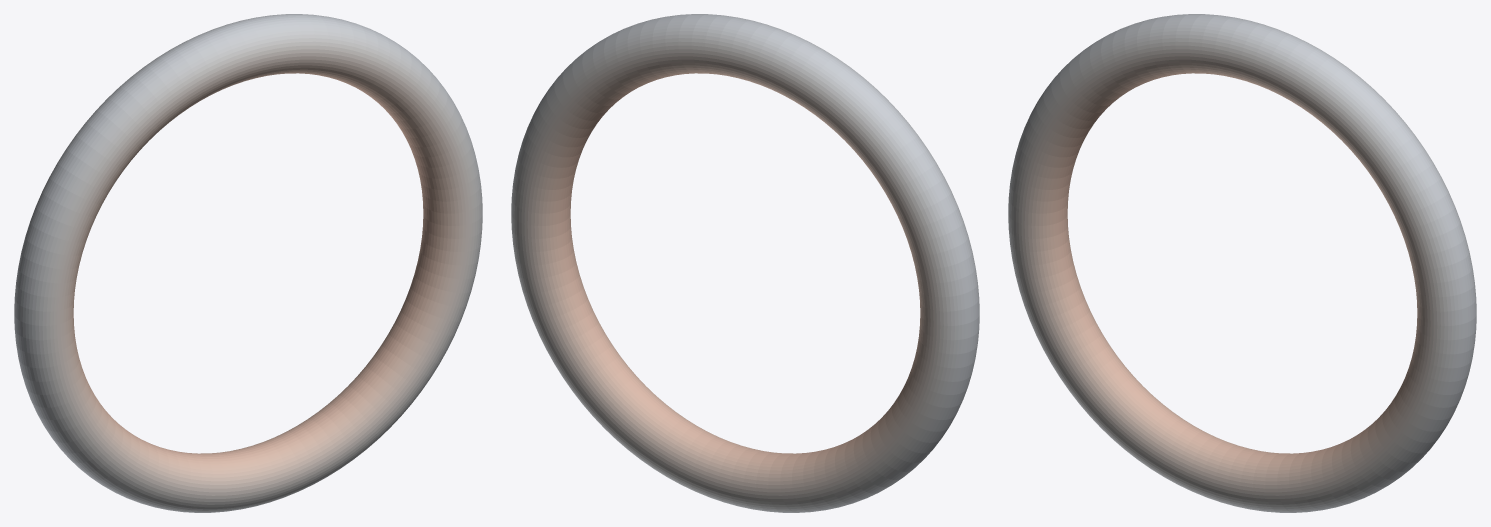
The picture shows the model from 3 angles, left to right: view 1: azimuth 30°, elevation 25°; view 2: azimuth 150°, elevation 25°; view 3: azimuth 330°, elevation 25°; orthographic projection.
Parts seen in each view (by area): view 1: world; view 2: world; view 3: world.
Boxes of the visible parts, x1,y1,x2,y2 form: world: (14, 14, 482, 512); world: (511, 14, 979, 512); world: (1008, 14, 1476, 512).
Bounding box in the file's own units: 20.27 × 20.27 × 2.26.
